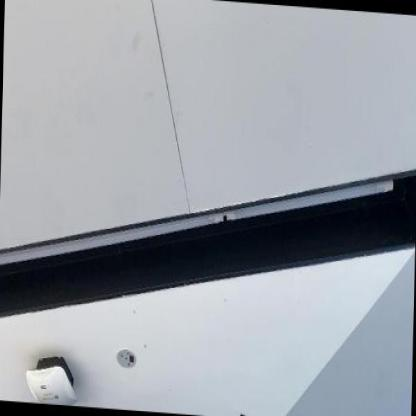light_off: (0, 119, 400, 327)
